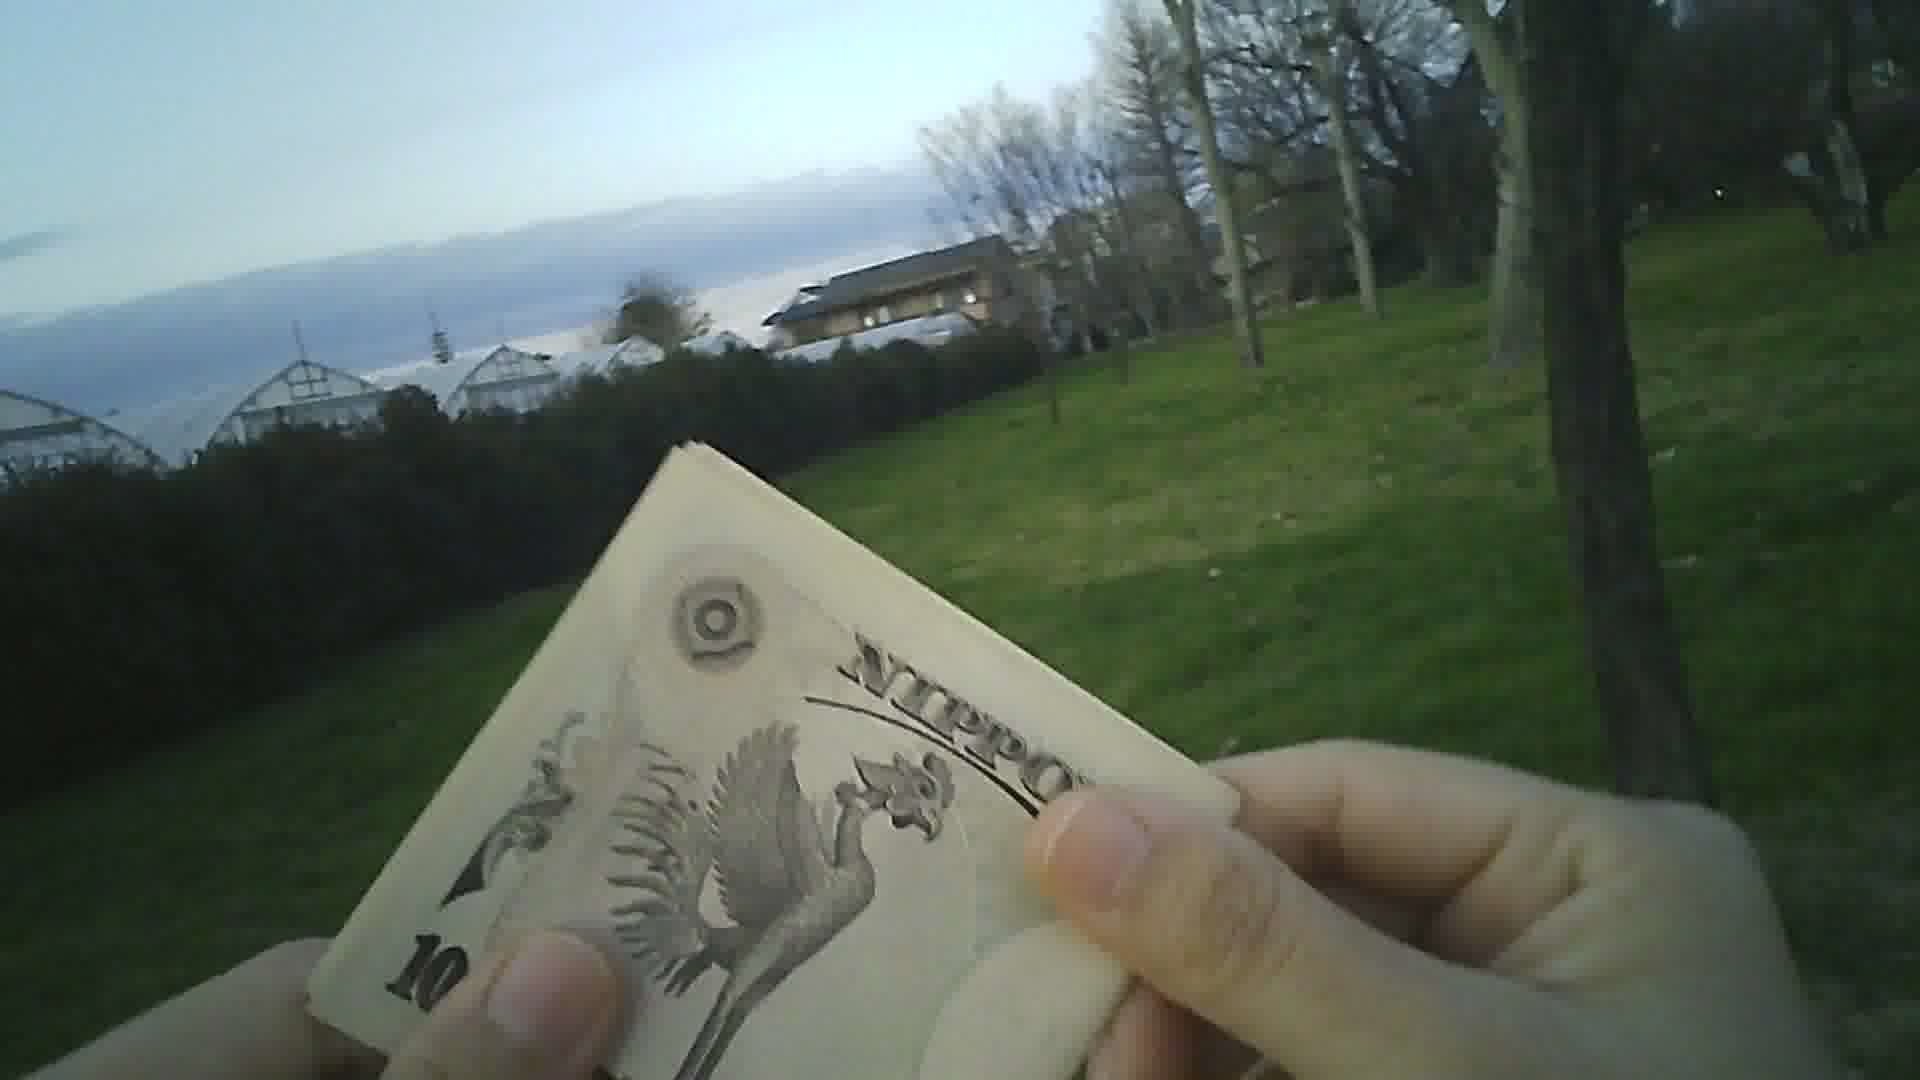10,000 Yen: (301, 386, 1195, 1079)
